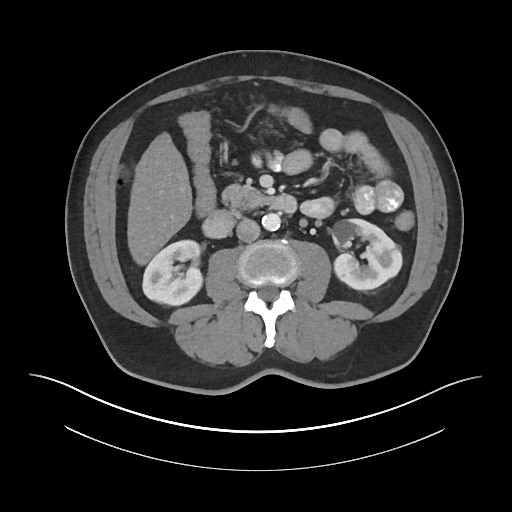Lesion: (327, 216, 363, 247)
